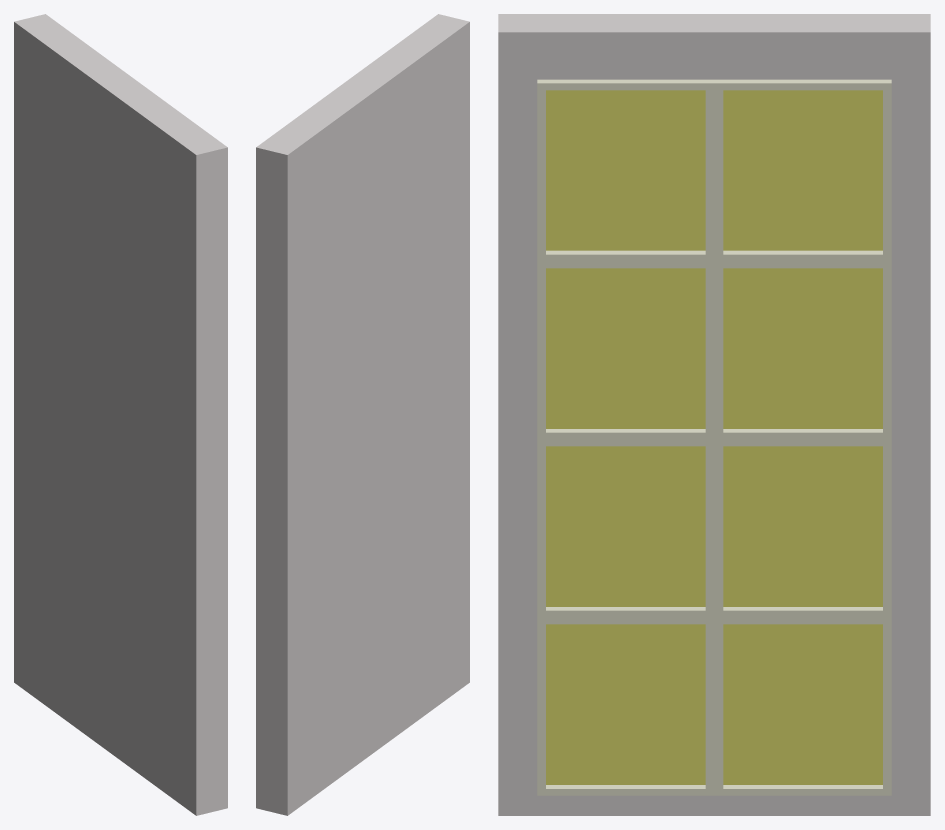
File: SM_HOTEL_Wall_Cutscene.fbx
The picture shows the model from 3 angles, left to right: view 1: azimuth 30°, elevation 25°; view 2: azimuth 150°, elevation 25°; view 3: azimuth 270°, elevation 25°; orthographic projection. The views are drawn at different scales.
Parts seen in each view (by area): view 1: SM_HOTEL_Wall_Cutscene; view 2: SM_HOTEL_Wall_Cutscene; view 3: SM_HOTEL_Wall_Cutscene.
Boxes of the visible parts, x1=… form: SM_HOTEL_Wall_Cutscene: x1=14, y1=14, x2=227, y2=815; SM_HOTEL_Wall_Cutscene: x1=256, y1=14, x2=469, y2=815; SM_HOTEL_Wall_Cutscene: x1=498, y1=14, x2=930, y2=815.
Size of the model in its own units: 50.43 by 800 by 400.
